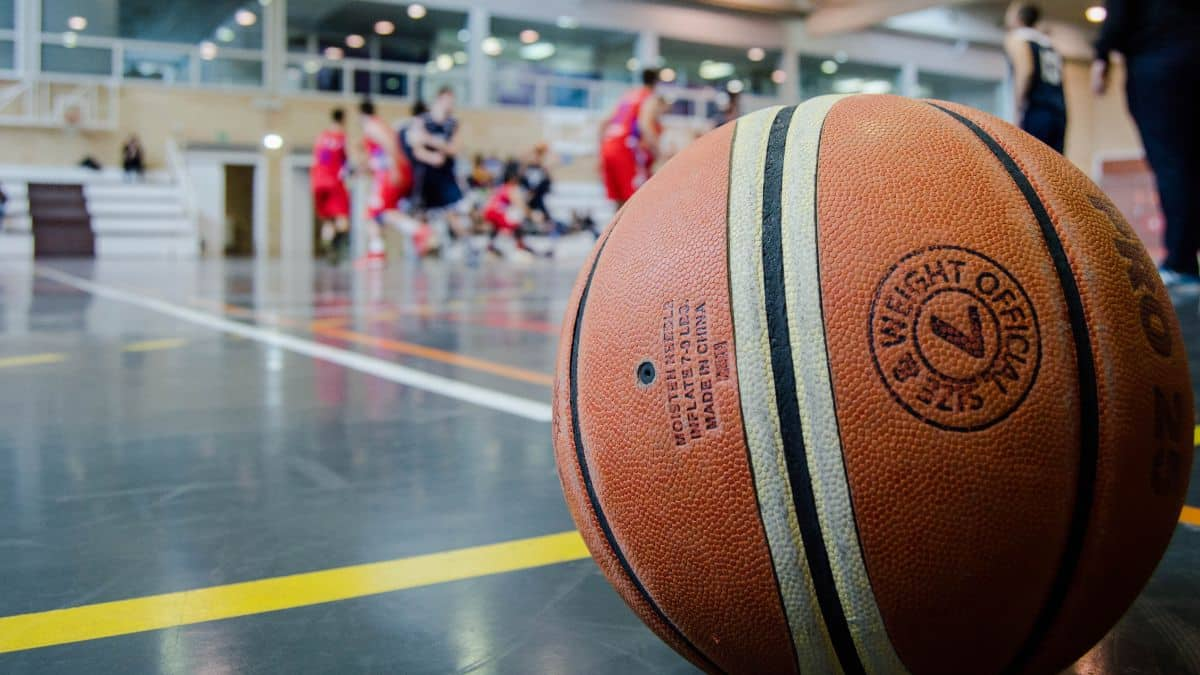ball: (526, 65, 1200, 675)
